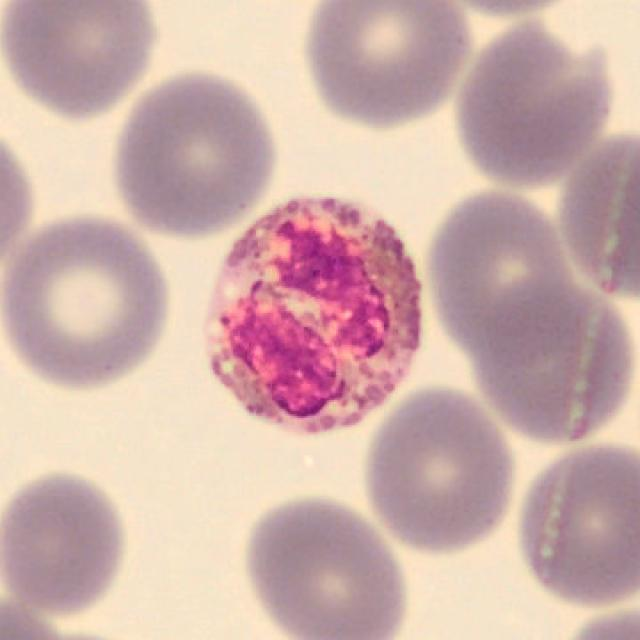Eosinofilo: (203, 197, 423, 437)
